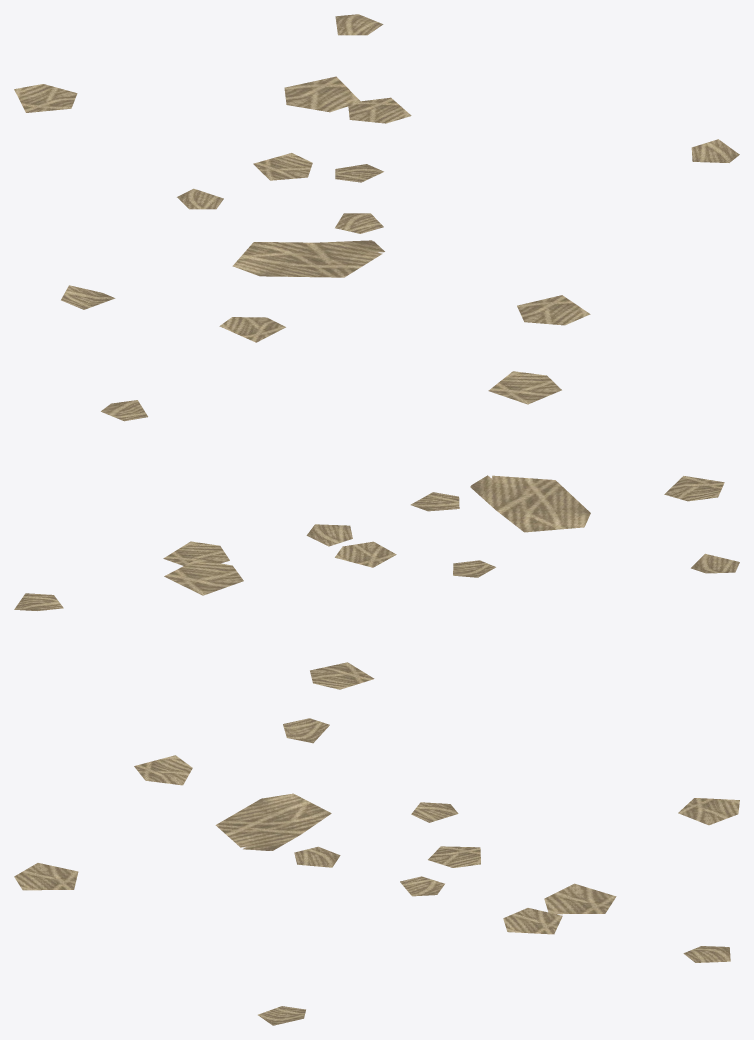
3 renders of one model, top to bottom at view 1: azimuth 30°, elevation 25°; view 2: azimuth 150°, elevation 25°; view 3: azimuth 270°, elevation 25°, orthographic. The views are drawn at different scales.
Parts seen in each view (by area): view 1: SM_Desert_Thread_01_LOD0; view 2: SM_Desert_Thread_01_LOD0; view 3: SM_Desert_Thread_01_LOD0.
Boxes of the visible parts, x1=… form: SM_Desert_Thread_01_LOD0: x1=14, y1=14, x2=739, y2=342; SM_Desert_Thread_01_LOD0: x1=14, y1=371, x2=739, y2=689; SM_Desert_Thread_01_LOD0: x1=14, y1=718, x2=739, y2=1025.
Size of the model in its own units: 1.23 by 0.0179 by 1.23.
